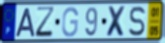9: (84, 6, 98, 37)
A: (14, 7, 36, 39)
G: (61, 6, 80, 38)
S: (128, 5, 147, 38)
X: (106, 5, 127, 38)
Z: (35, 6, 57, 39)
